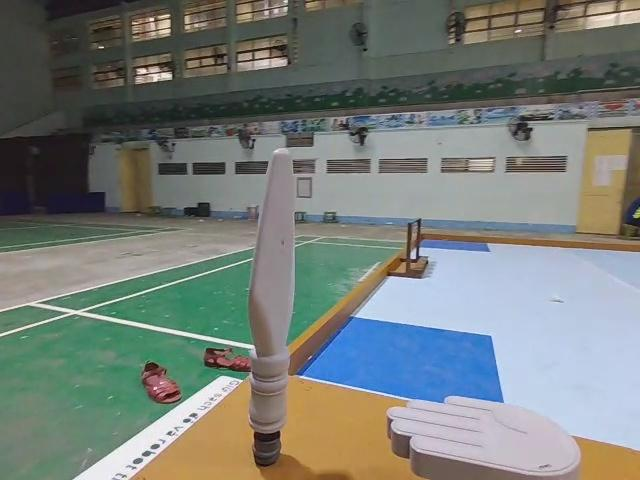Hand: (382, 395, 580, 480)
Sph: (243, 149, 297, 469)
